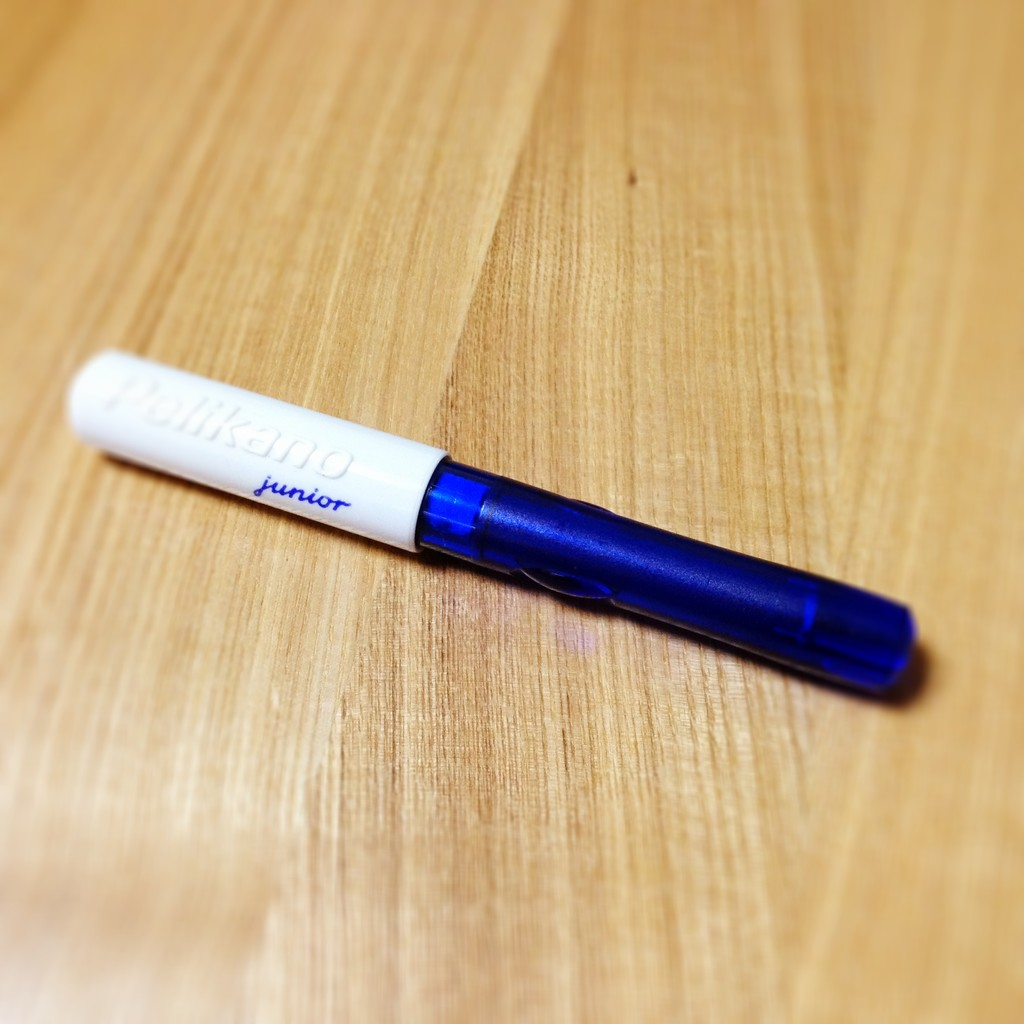Pen: (68, 337, 919, 709)
